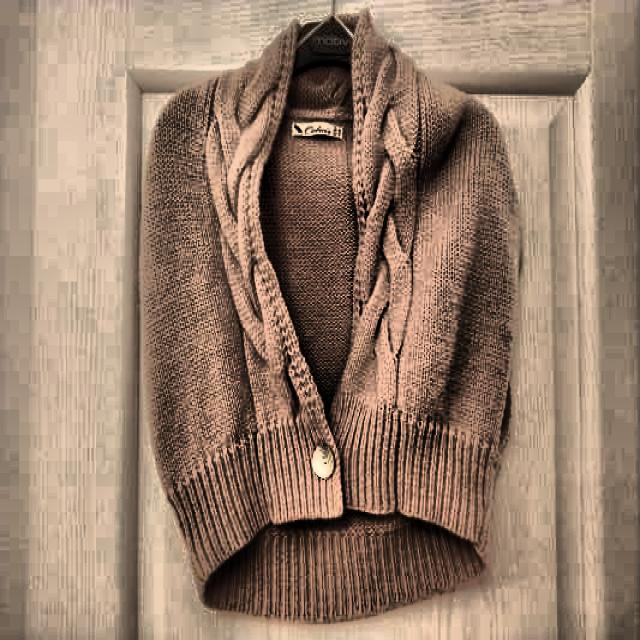clothes: (142, 5, 520, 626)
